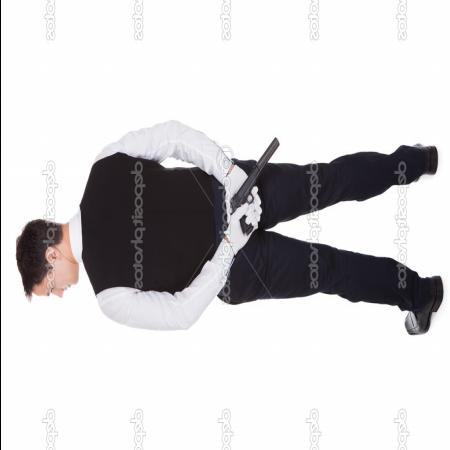Pistol: (222, 132, 288, 236)
